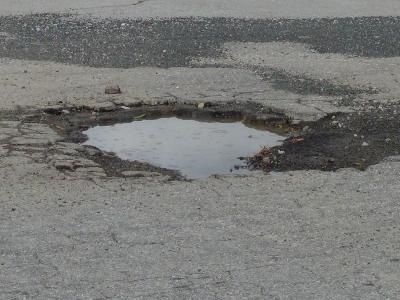pothole: (42, 93, 308, 181)
